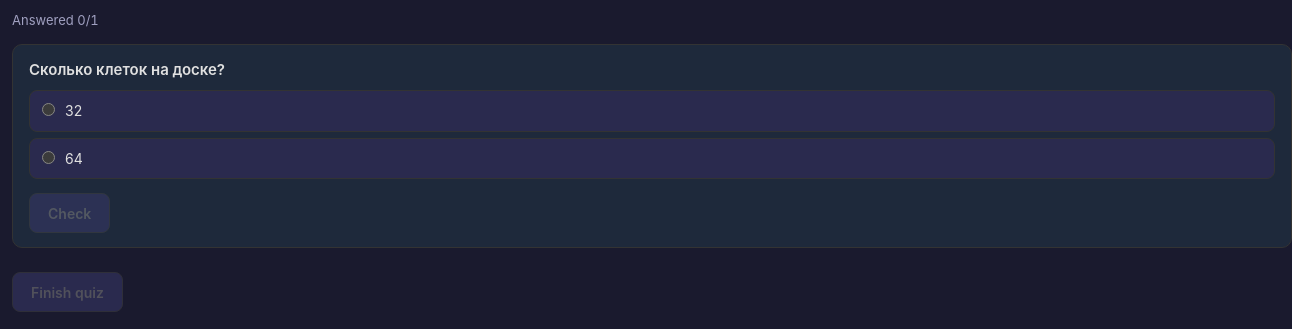
Test: <QuizStep> › KS-1982: prompt/label/explanation рендерятся inline-строкой
Expected: the list item with test id "lesson-quiz-question-0" shows "Сколько клеток на доске?", x1=29 y1=60 x2=225 y2=79
Expected: the label "32" is shown, x1=42 y1=102 x2=82 y2=119
Click the radio button with test id "option-0-b" at (48, 157), box x1=42 y1=151 x2=55 y2=164
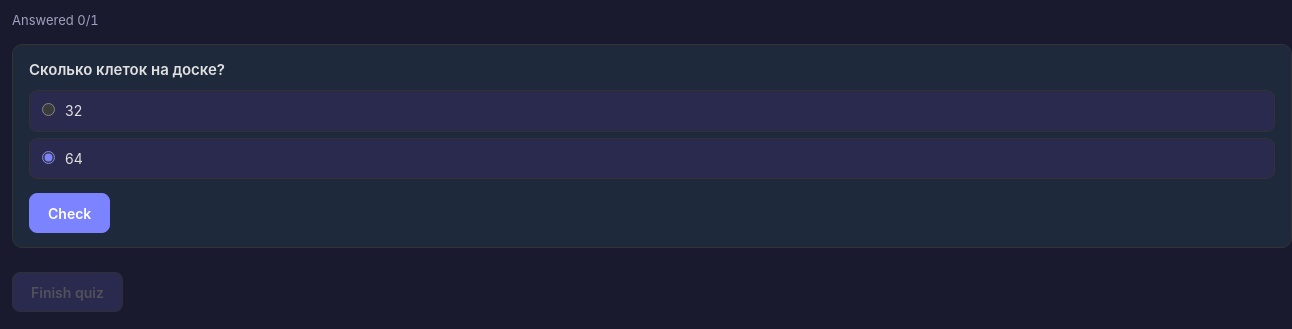
Click the button with test id "check-0" at (70, 213), box x1=29 y1=193 x2=110 y2=233
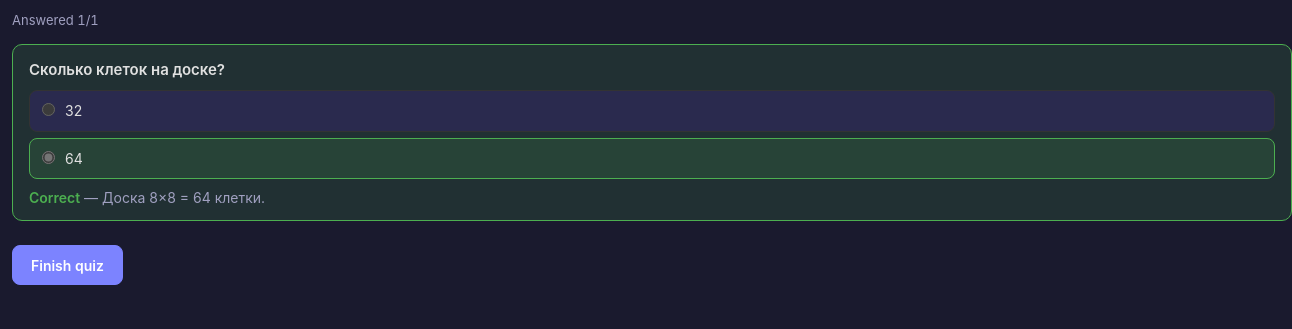
Expected: the element with test id "question-result-0" shows "Доска 8×8 = 64 клетки.", x1=102 y1=189 x2=265 y2=206
